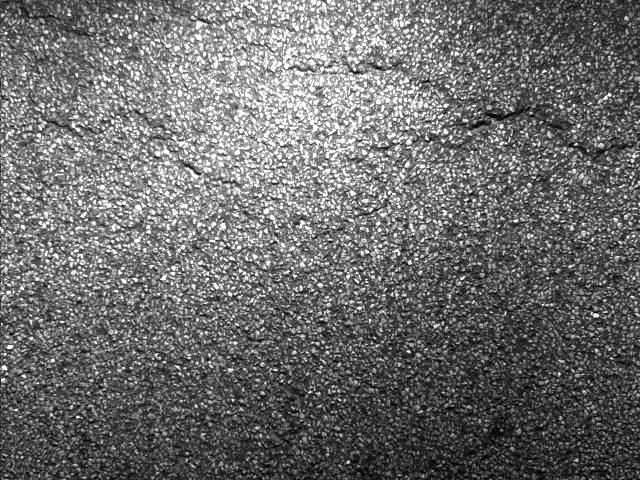crack: (0, 108, 640, 188), (0, 0, 474, 107)
